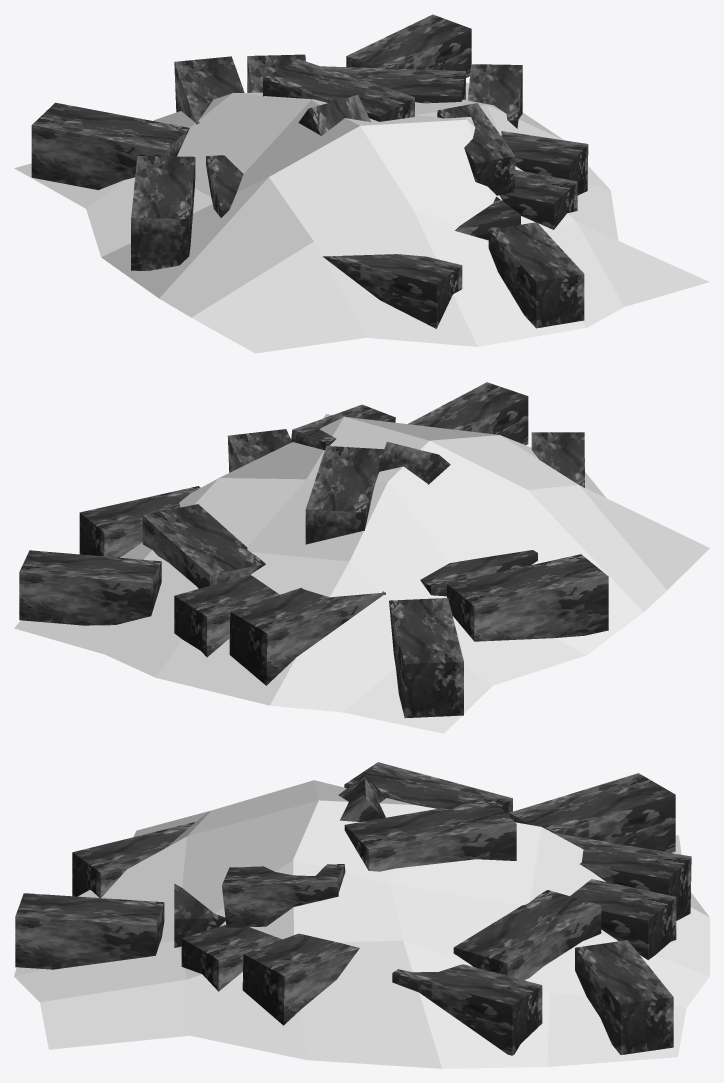
Rendered from Brickpile.fbx.
3 views of the same model, one above another, from view 1: azimuth 30°, elevation 25°; view 2: azimuth 150°, elevation 25°; view 3: azimuth 270°, elevation 25° (orthographic). The views are drawn at different scales.
Visible parts, largest first — view 1: Brickpile_col, Brickpile; view 2: Brickpile_col, Brickpile; view 3: Brickpile_col, Brickpile.
Boxes of the visible parts, left/top/right/bottom form: Brickpile_col: left=14, top=82, right=709, bottom=353; Brickpile: left=31, top=14, right=588, bottom=328; Brickpile_col: left=14, top=414, right=709, bottom=733; Brickpile: left=19, top=382, right=608, bottom=718; Brickpile_col: left=14, top=780, right=709, bottom=1068; Brickpile: left=15, top=762, right=691, bottom=1055.
Size of the model in its own units: 818 by 218 by 972.
